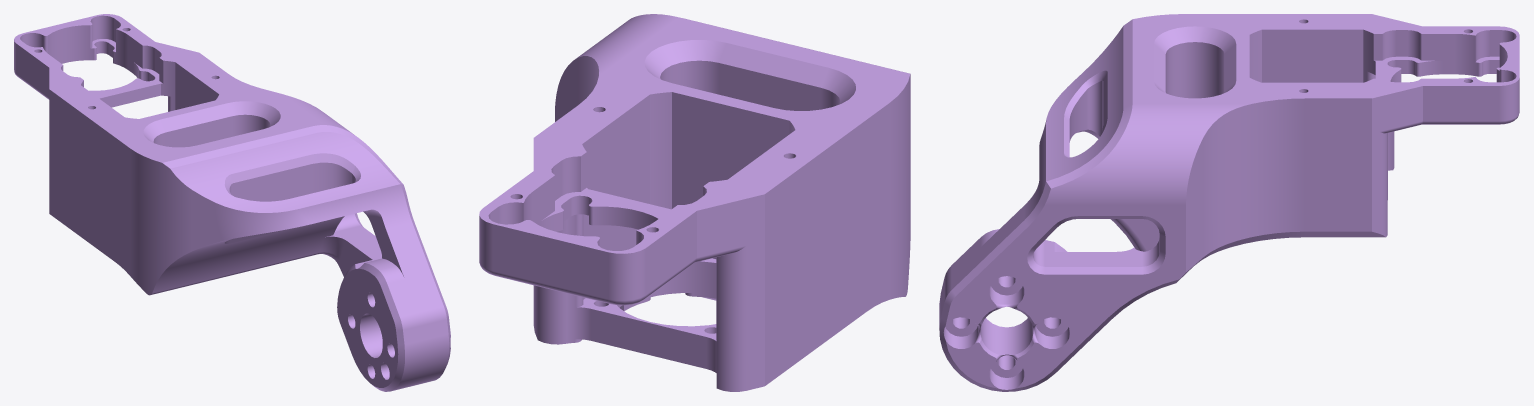
Rendered from Main_CaseJoint4.dae.
3 views of the same model, side by side, from view 1: azimuth 30°, elevation 25°; view 2: azimuth 150°, elevation 25°; view 3: azimuth 270°, elevation 25° (orthographic). The views are drawn at different scales.
Visible parts, largest first — view 1: Main_CaseJoint4; view 2: Main_CaseJoint4; view 3: Main_CaseJoint4.
Boxes of the visible parts, x1=… form: Main_CaseJoint4: x1=14, y1=14, x2=450, y2=391; Main_CaseJoint4: x1=479, y1=14, x2=910, y2=391; Main_CaseJoint4: x1=939, y1=14, x2=1519, y2=391.
Bounding box in the file's own units: 0.0491 × 0.0987 × 0.0485.
